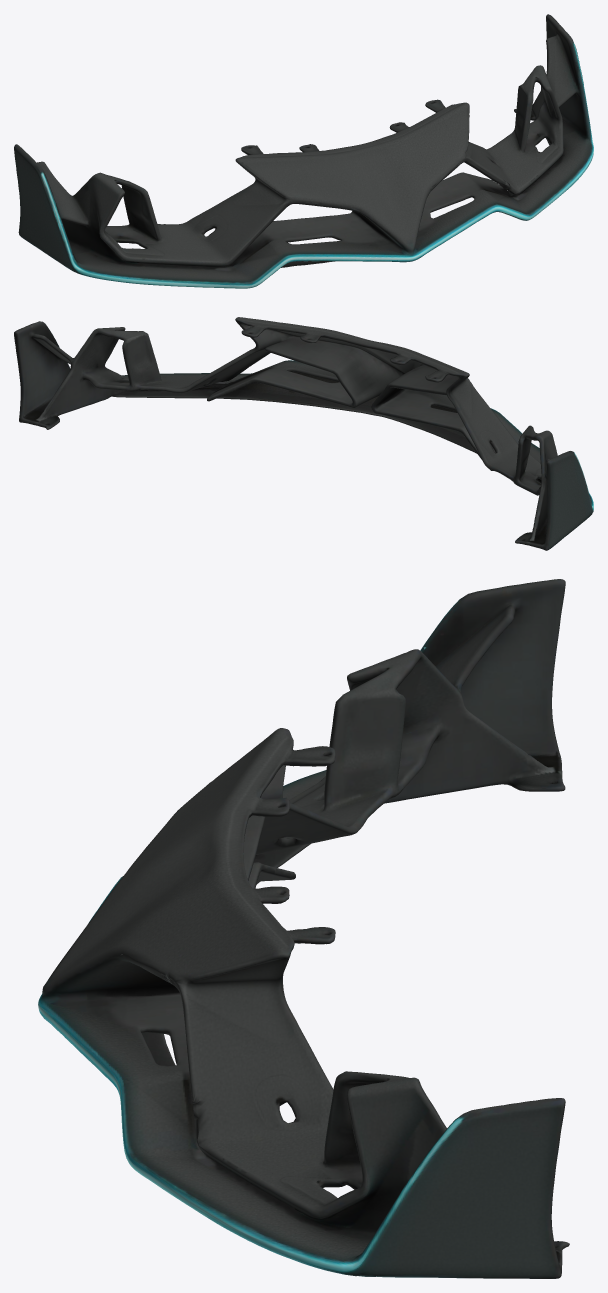
Rendered from tripo_convert_c4d2e060-2497-46fd-a5e0-c74c3413131f.fbx.
3 renders of one model, top to bottom at view 1: azimuth 30°, elevation 25°; view 2: azimuth 150°, elevation 25°; view 3: azimuth 270°, elevation 25°, orthographic. The views are drawn at different scales.
Parts seen in each view (by area): view 1: tripo_node_c4d2e060; view 2: tripo_node_c4d2e060; view 3: tripo_node_c4d2e060.
Part boxes in pixels (x1,y1,x2,y2): tripo_node_c4d2e060: (14,14,593,288); tripo_node_c4d2e060: (14,317,593,550); tripo_node_c4d2e060: (38,579,569,1278).
Size of the model in its own units: 0.98 by 0.1677 by 0.4199.
1 material, 1 textured.
